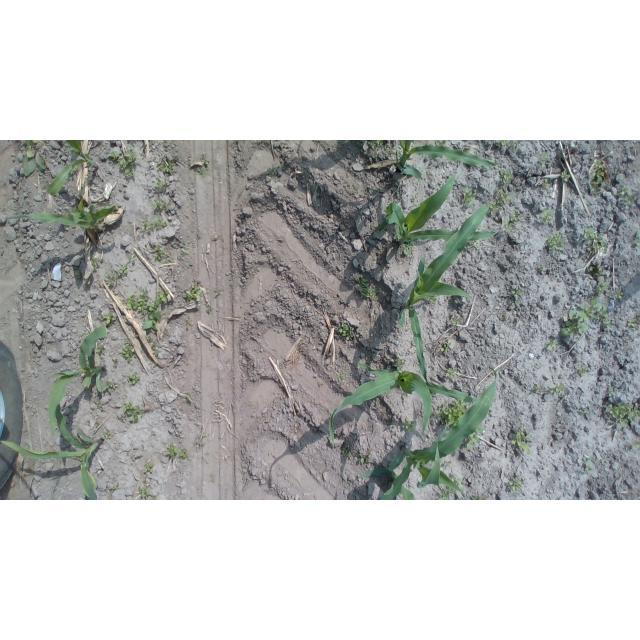Maize: (396, 204, 488, 387), (380, 366, 497, 500), (329, 362, 480, 448), (0, 403, 104, 500), (369, 173, 499, 244), (45, 325, 107, 435), (395, 141, 498, 180), (5, 199, 115, 230), (47, 141, 100, 198), (357, 466, 416, 500)
Weeds: (126, 288, 169, 330), (435, 400, 470, 427), (22, 140, 46, 177), (606, 403, 640, 429), (561, 310, 590, 339), (583, 227, 607, 253), (580, 299, 609, 320), (357, 275, 379, 301), (589, 159, 604, 195), (120, 151, 139, 179), (511, 427, 531, 453), (466, 426, 485, 451), (121, 402, 143, 422), (142, 215, 169, 230), (122, 340, 137, 362), (547, 232, 564, 251), (186, 282, 202, 302), (158, 159, 177, 175), (505, 210, 519, 231), (339, 323, 354, 341), (463, 189, 478, 206), (437, 486, 455, 500), (496, 188, 511, 204), (153, 197, 169, 211), (166, 443, 179, 459), (583, 456, 595, 473), (448, 473, 462, 487), (342, 445, 355, 460), (550, 383, 566, 395), (127, 373, 140, 387), (487, 201, 500, 215), (510, 477, 523, 491), (102, 382, 118, 393), (541, 210, 554, 223), (154, 244, 164, 260), (501, 170, 513, 183), (104, 312, 116, 325), (116, 264, 128, 277), (403, 418, 414, 432), (403, 241, 414, 255), (105, 275, 117, 287), (155, 180, 167, 192), (199, 152, 210, 165), (627, 316, 640, 327), (596, 283, 608, 294), (547, 340, 559, 351), (361, 452, 372, 463), (561, 170, 571, 182), (90, 256, 100, 268), (108, 151, 120, 161), (141, 487, 150, 500), (144, 463, 155, 473), (441, 342, 452, 352), (445, 368, 455, 379), (413, 194, 420, 209), (436, 140, 449, 148), (367, 140, 384, 146), (95, 344, 105, 354), (512, 289, 523, 298), (152, 341, 159, 355), (266, 168, 278, 176), (541, 153, 549, 165), (595, 266, 602, 279), (179, 449, 188, 459), (198, 167, 207, 177), (468, 239, 478, 248), (394, 358, 404, 367), (384, 144, 391, 156), (622, 186, 631, 195), (128, 254, 137, 263), (613, 291, 623, 299), (427, 297, 438, 304), (580, 365, 587, 376), (495, 141, 510, 146), (103, 430, 111, 439), (626, 196, 635, 204), (542, 179, 550, 188), (604, 320, 613, 328), (182, 248, 191, 256), (196, 440, 206, 447), (336, 373, 346, 380), (452, 317, 462, 324), (533, 383, 540, 393), (185, 317, 191, 328), (165, 253, 171, 264), (471, 496, 484, 501), (636, 230, 640, 246), (632, 440, 640, 448), (444, 461, 453, 468), (540, 265, 546, 275), (609, 387, 615, 397), (146, 335, 153, 343), (75, 272, 82, 279), (186, 262, 194, 268), (353, 183, 359, 190), (580, 409, 587, 415), (215, 289, 221, 295), (96, 401, 102, 407), (114, 359, 119, 366), (113, 485, 119, 490), (206, 307, 211, 313), (511, 142, 517, 147), (500, 316, 506, 320), (512, 303, 519, 306), (589, 267, 593, 272), (151, 497, 157, 500), (220, 329, 224, 333), (314, 185, 318, 189), (286, 333, 290, 336)
